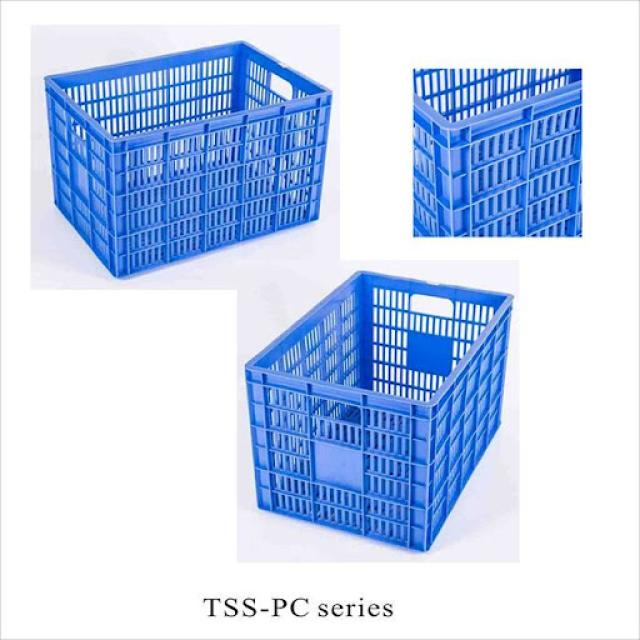basket: (222, 258, 521, 560), (414, 69, 584, 237)
